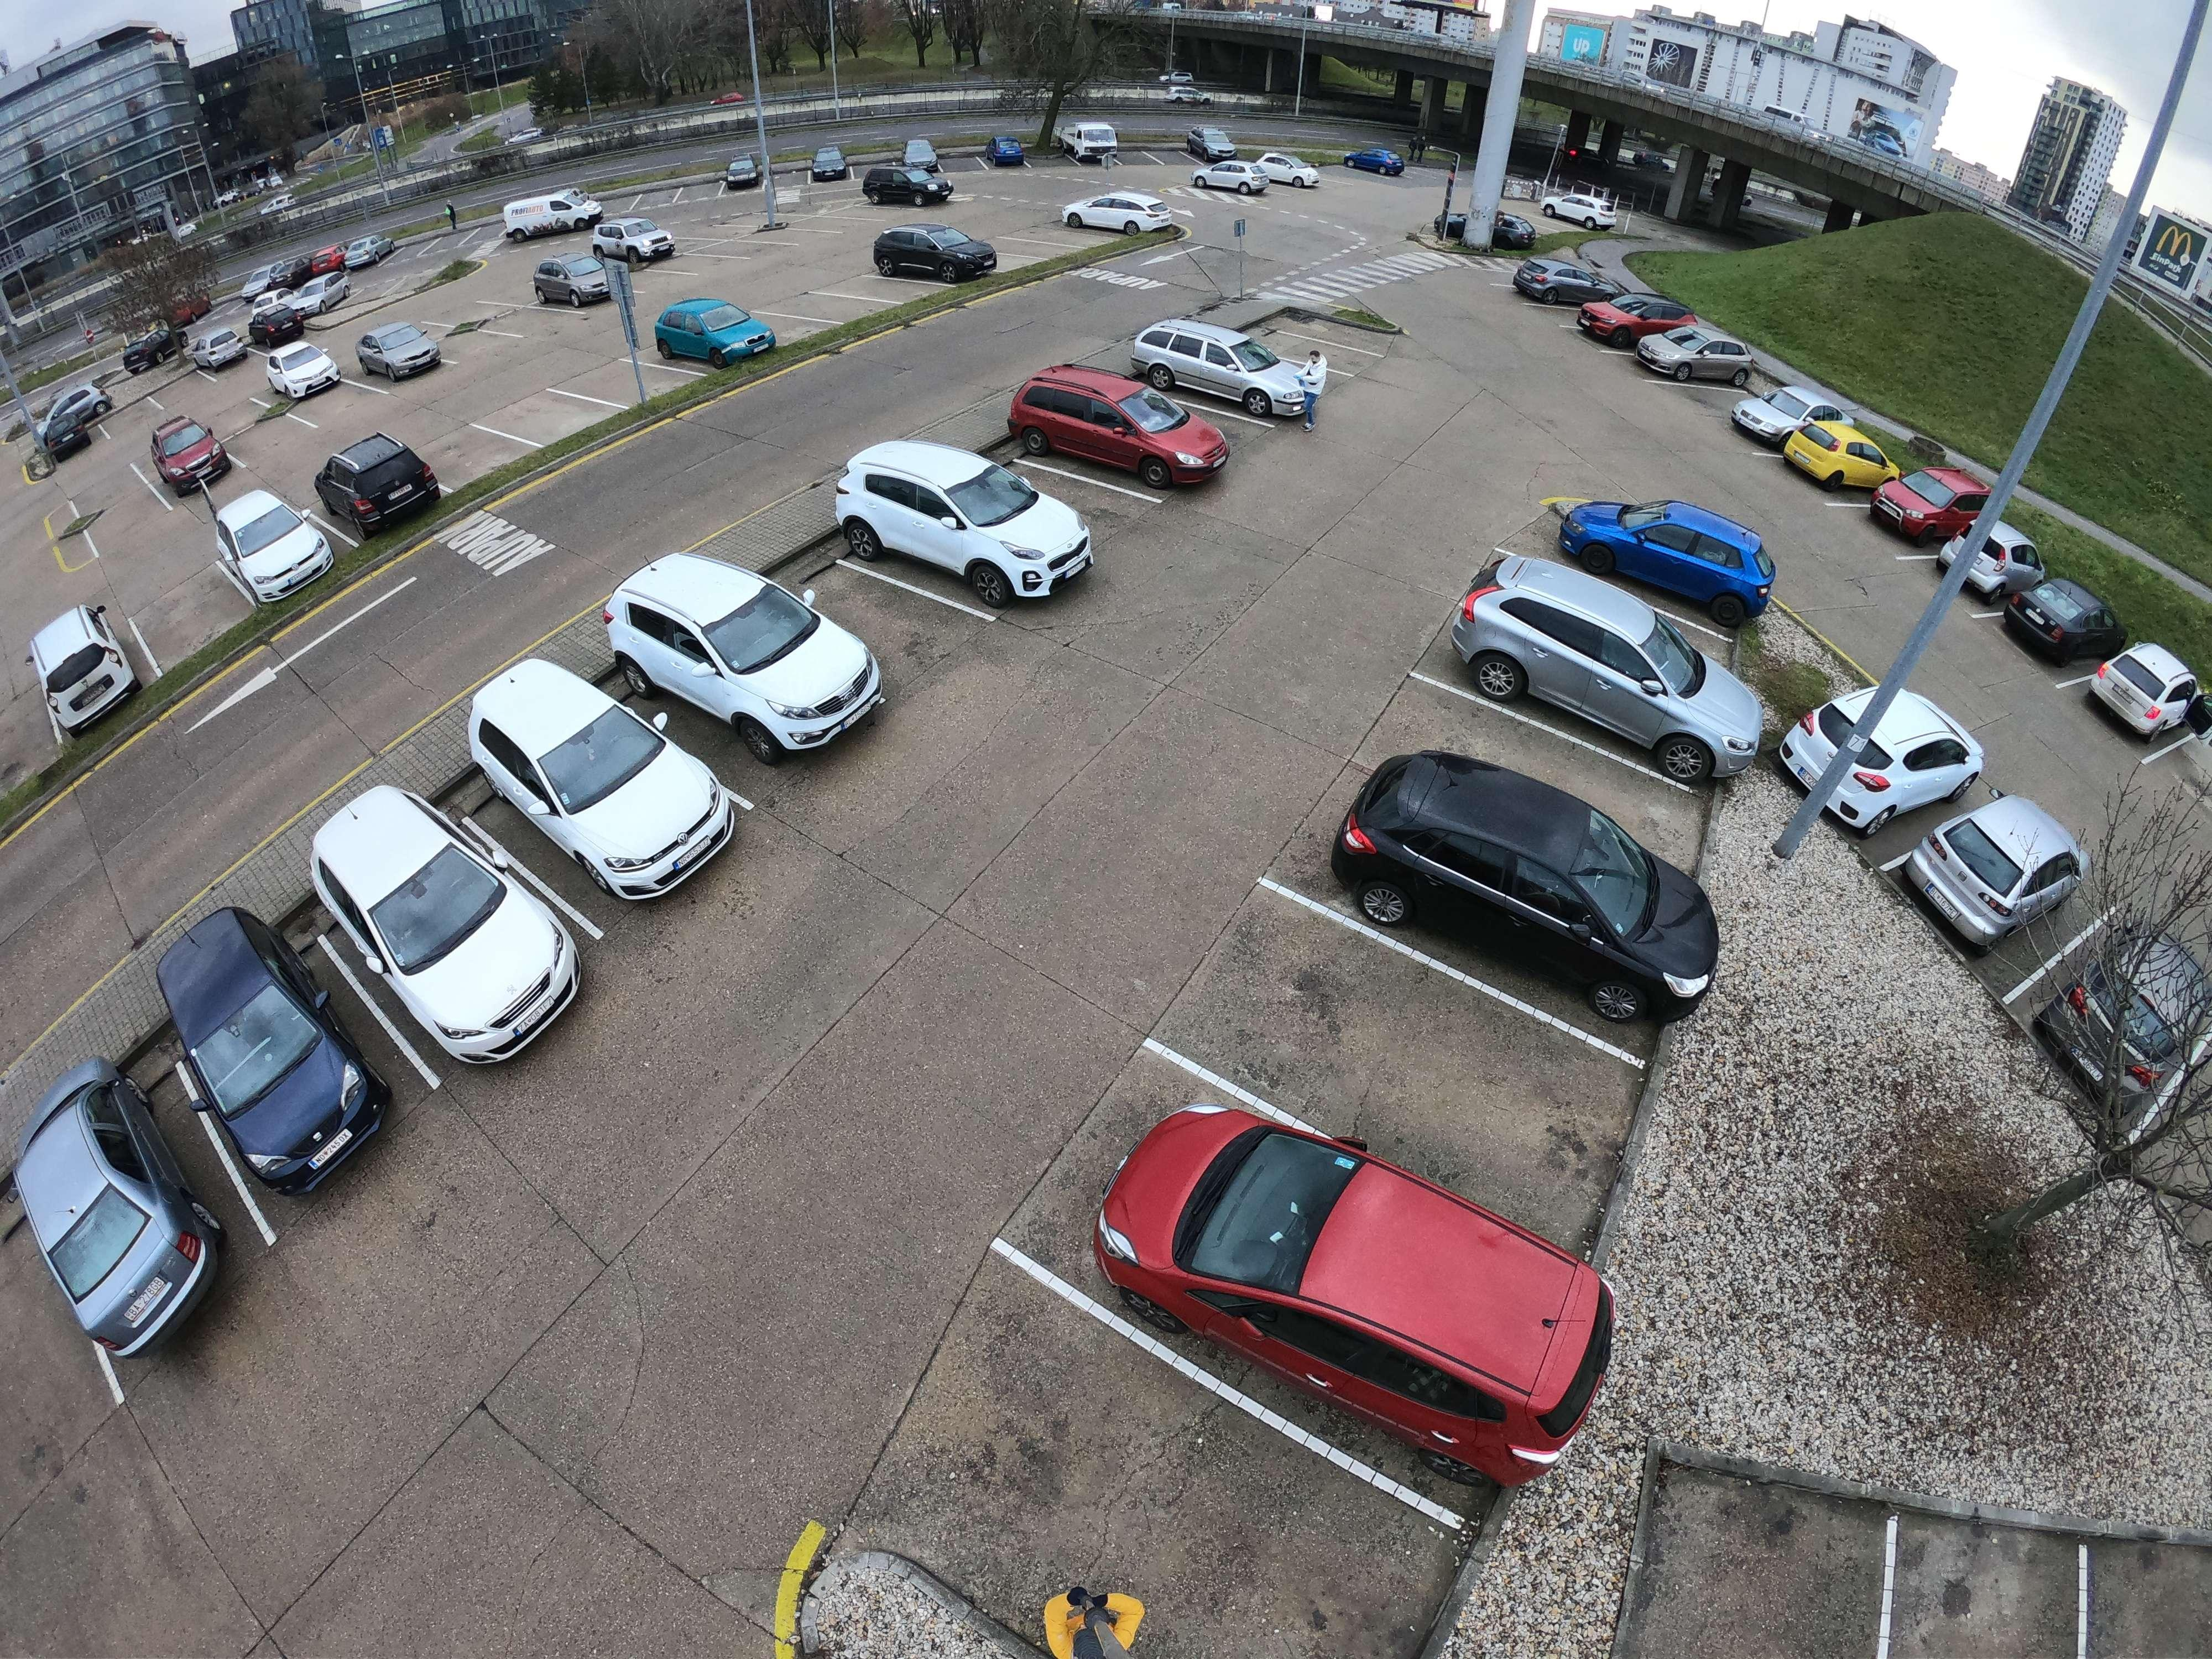empty: (1068, 1089, 1606, 1446), (1332, 744, 1717, 1006), (294, 779, 575, 1072), (120, 894, 374, 1192), (458, 664, 725, 911), (5, 1047, 199, 1349), (610, 561, 887, 767), (1449, 579, 1754, 755), (838, 444, 1092, 610), (1541, 502, 1771, 617), (1810, 687, 1994, 828), (1919, 796, 2099, 936), (1017, 373, 1219, 484), (1134, 319, 1320, 416), (31, 606, 148, 739), (211, 497, 343, 598), (319, 434, 441, 530), (2090, 641, 2205, 742), (1245, 282, 1404, 352), (1998, 575, 2118, 662), (1874, 467, 1991, 545), (653, 305, 787, 373), (1630, 324, 1761, 387), (1784, 425, 1900, 493), (871, 225, 1001, 284), (1939, 532, 2038, 603), (150, 413, 240, 490), (348, 321, 449, 389), (1581, 291, 1693, 349), (1508, 256, 1618, 307), (1069, 192, 1172, 242), (30, 397, 105, 464), (263, 349, 343, 410), (1538, 185, 1632, 234), (536, 254, 618, 308), (603, 220, 685, 263), (193, 319, 253, 375), (1191, 157, 1263, 199), (1254, 153, 1318, 190)
occupied: (921, 1441, 1275, 1631), (1280, 988, 1500, 1117), (1435, 708, 1646, 807), (1007, 457, 1120, 521), (820, 577, 918, 647), (752, 274, 862, 335), (406, 423, 489, 476), (148, 589, 219, 650), (503, 397, 582, 444), (594, 361, 674, 401)
